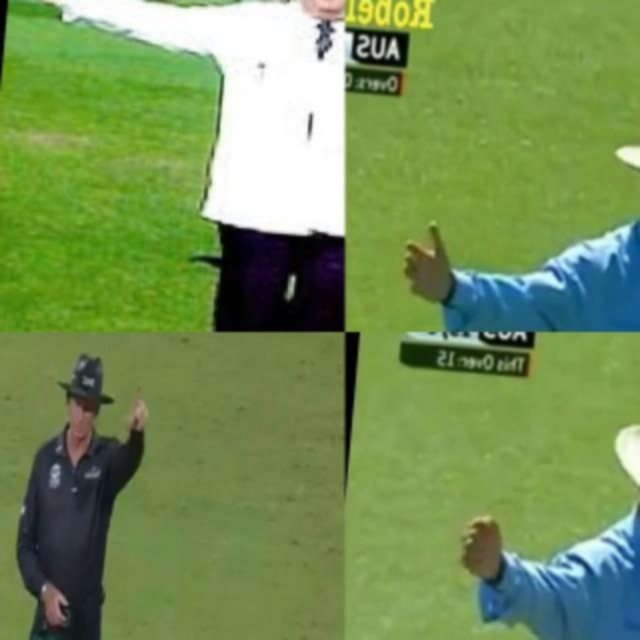No_Ball: (372, 70, 640, 332)
Out: (0, 339, 158, 640)
Wide: (0, 0, 345, 332), (428, 379, 640, 640)
